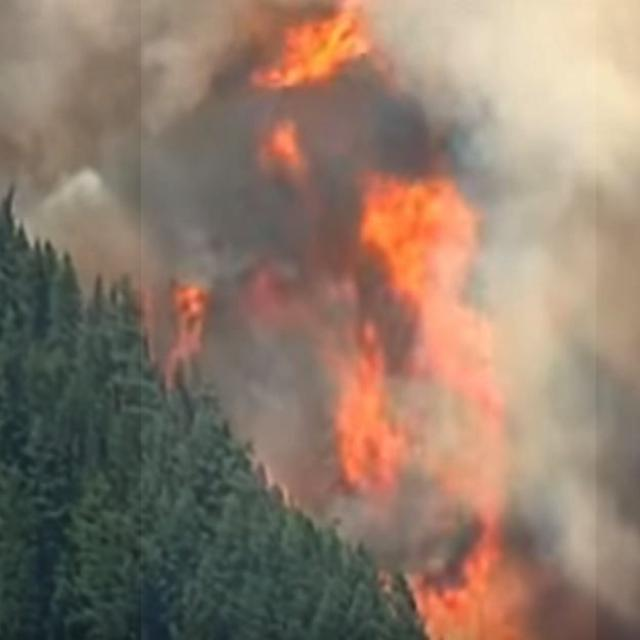Fire: (141, 0, 596, 640)
Smoke: (0, 0, 640, 640)
